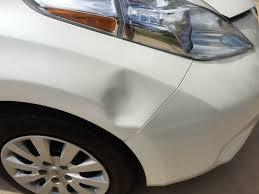fender-dent: (0, 48, 170, 148)
